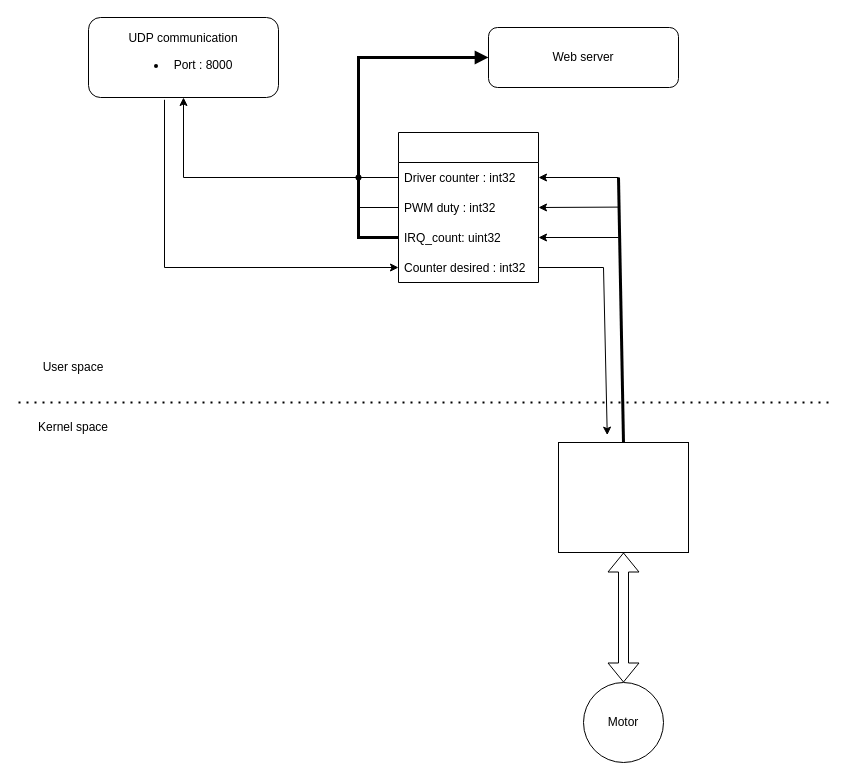
Some shapes in this 847 by 780 pixel diagram are drawn without their labels. The shapes that lost their labels are listed below. From the top down, each one's box as (x1, y1, x2, y2) in pixels, then its label:
(398, 132, 538, 282): Shared memory
(558, 442, 688, 552): Motor driver (reader or writer mode)
